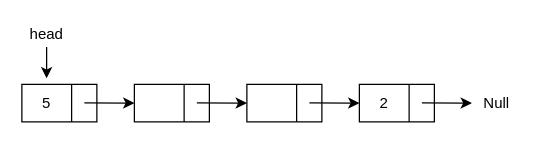
The diagram is 544 pixels wide and 145 high, and some of its shapes have lost their labels. Each missing label, with the box of its shape:
'cat': (246, 83, 322, 122)
True: (133, 83, 209, 122)
